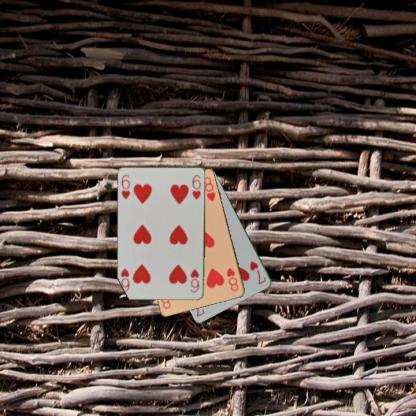6h: (119, 172, 131, 201), (188, 266, 200, 294)
7h: (247, 259, 268, 286)
8h: (224, 265, 240, 292)
